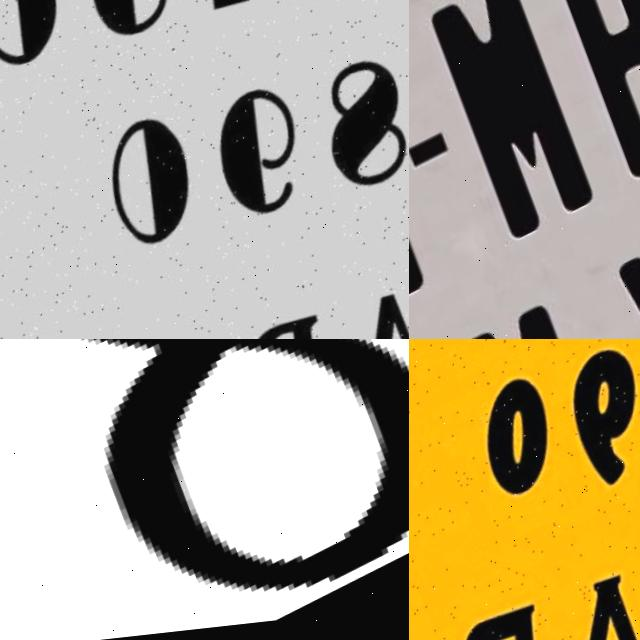0: (48, 45, 256, 302), (435, 339, 601, 541)
3: (250, 0, 406, 31)
4: (140, 0, 322, 58)
5: (34, 0, 218, 84)
6: (0, 0, 123, 126)
8: (0, 339, 409, 640), (271, 11, 409, 245)
9: (167, 39, 354, 272), (521, 339, 640, 533)
H: (531, 0, 640, 201)
M: (415, 0, 603, 256)
